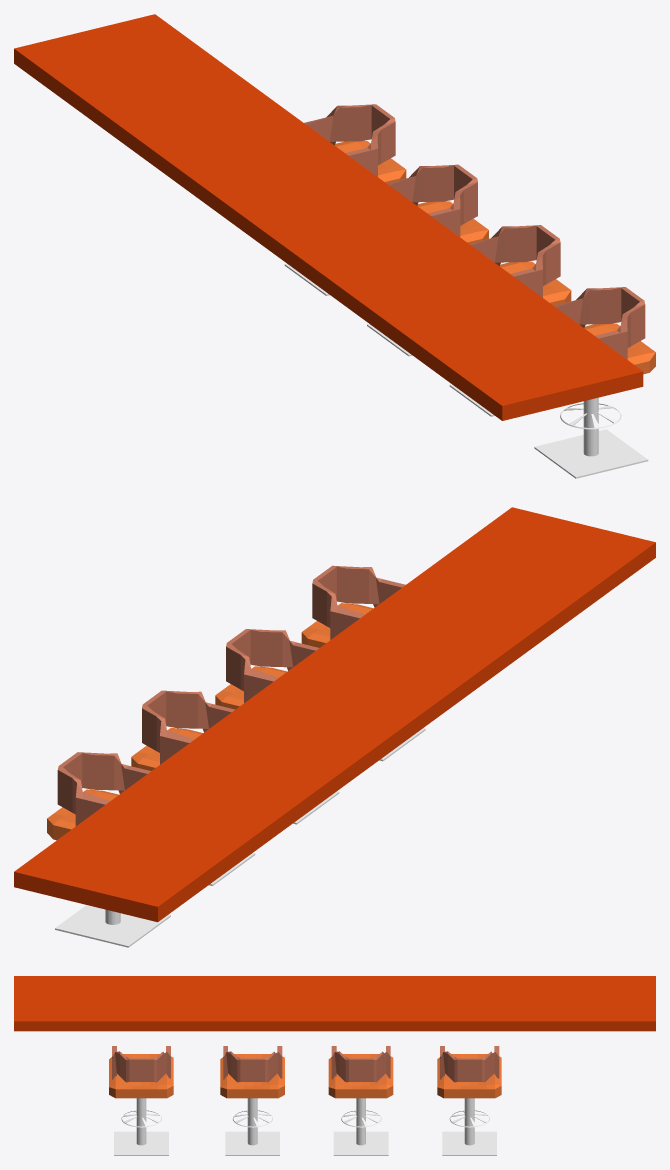
Rendered from stools.fbx.
The picture shows the model from 3 angles, top to bottom: view 1: azimuth 30°, elevation 25°; view 2: azimuth 150°, elevation 25°; view 3: azimuth 270°, elevation 25°; orthographic projection. The views are drawn at different scales.
Parts seen in each view (by area): view 1: Cube.428, Cube.430, Cube.432, Cube.429, Cube.431; view 2: Cube.428, Cube.429, Cube.430, Cube.432, Cube.431; view 3: Cube.428, Cube.431, Cube.432, Cube.429, Cube.430.
Part boxes in pixels (x1,y1,x2,y2): Cube.428: (14, 14, 643, 420); Cube.430: (534, 287, 655, 478); Cube.432: (449, 225, 571, 416); Cube.429: (284, 104, 406, 295); Cube.431: (367, 164, 488, 356); Cube.428: (14, 507, 655, 922); Cube.429: (47, 752, 170, 947); Cube.430: (301, 565, 425, 761); Cube.432: (215, 629, 339, 824); Cube.431: (131, 690, 255, 885); Cube.428: (14, 976, 655, 1031); Cube.431: (328, 1046, 393, 1155); Cube.432: (220, 1046, 284, 1155); Cube.429: (437, 1046, 501, 1155); Cube.430: (109, 1046, 173, 1155).
Bounding box in the file's own units: 172 × 118 × 630.
